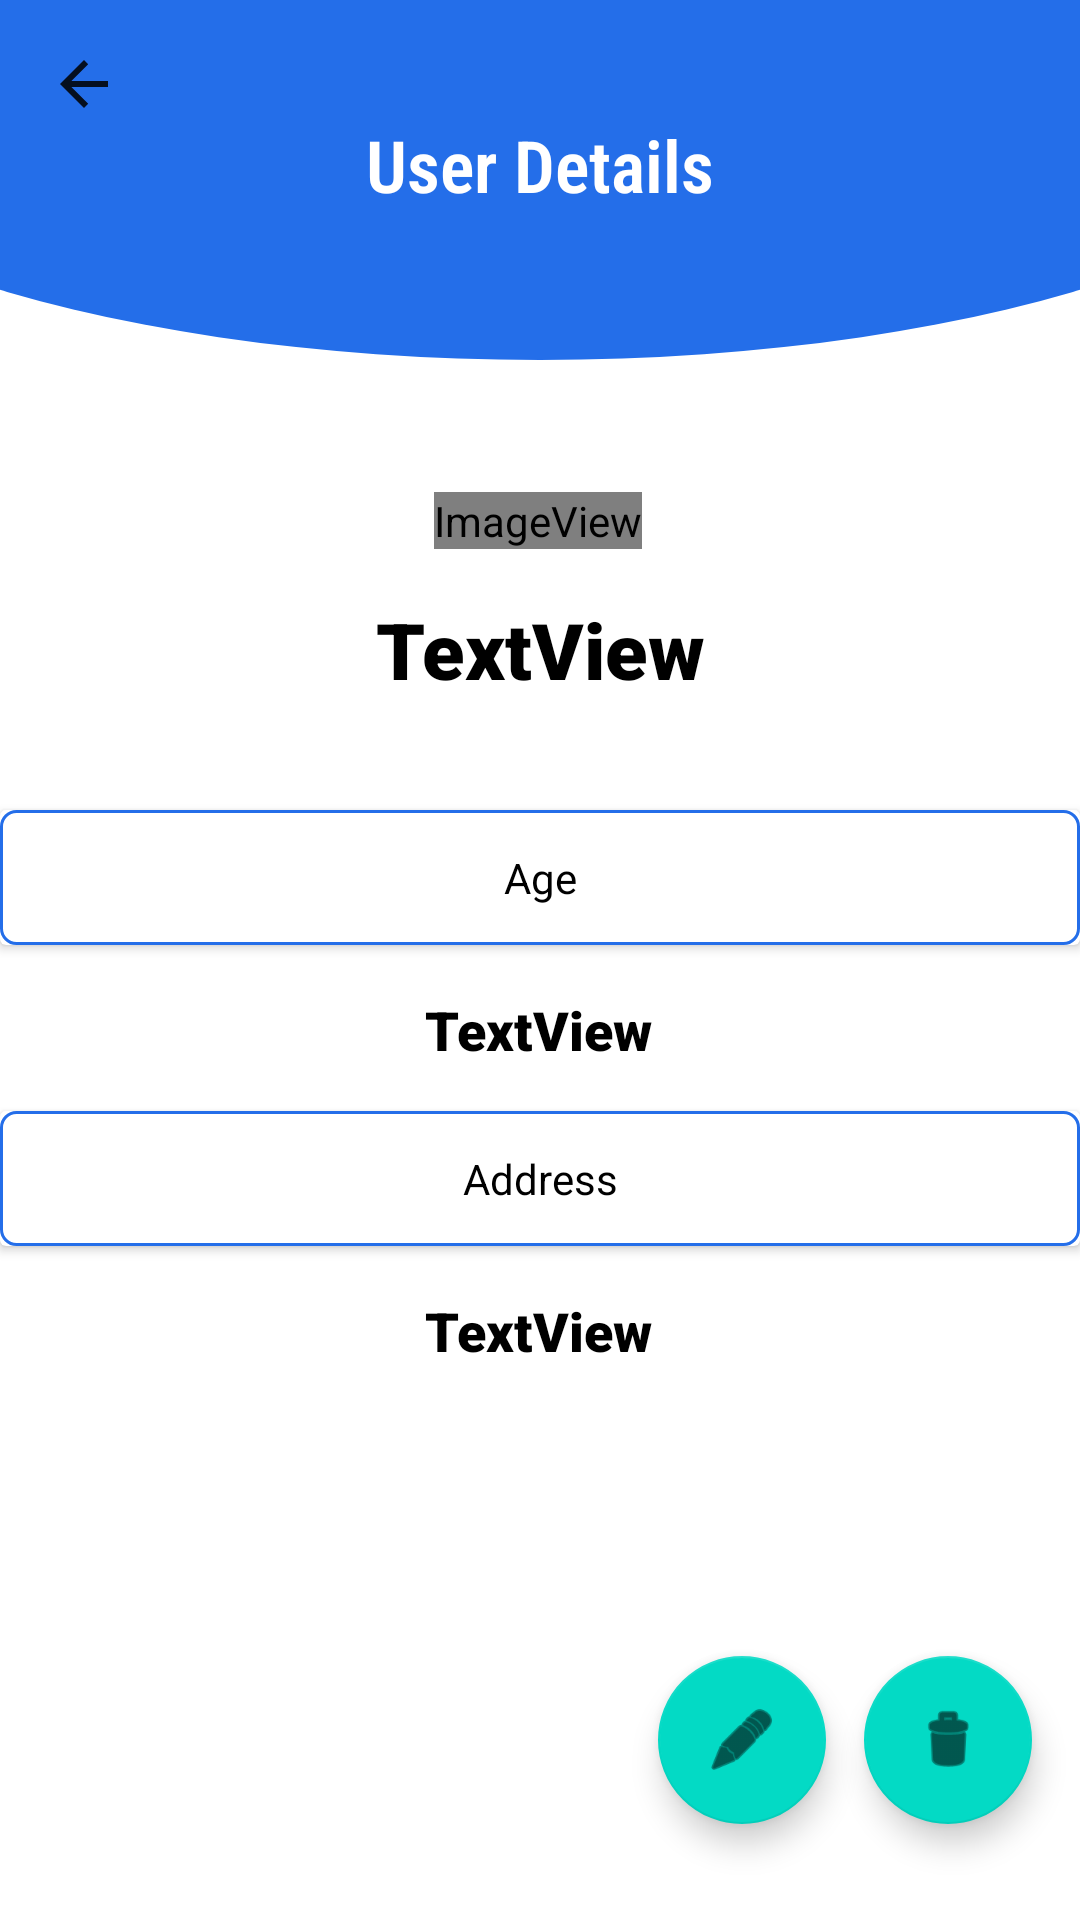

Point at icon controls on the screen. Image size 1080x1920, points as (x,y).
delete: (948,1740)
edit: (742,1740)
